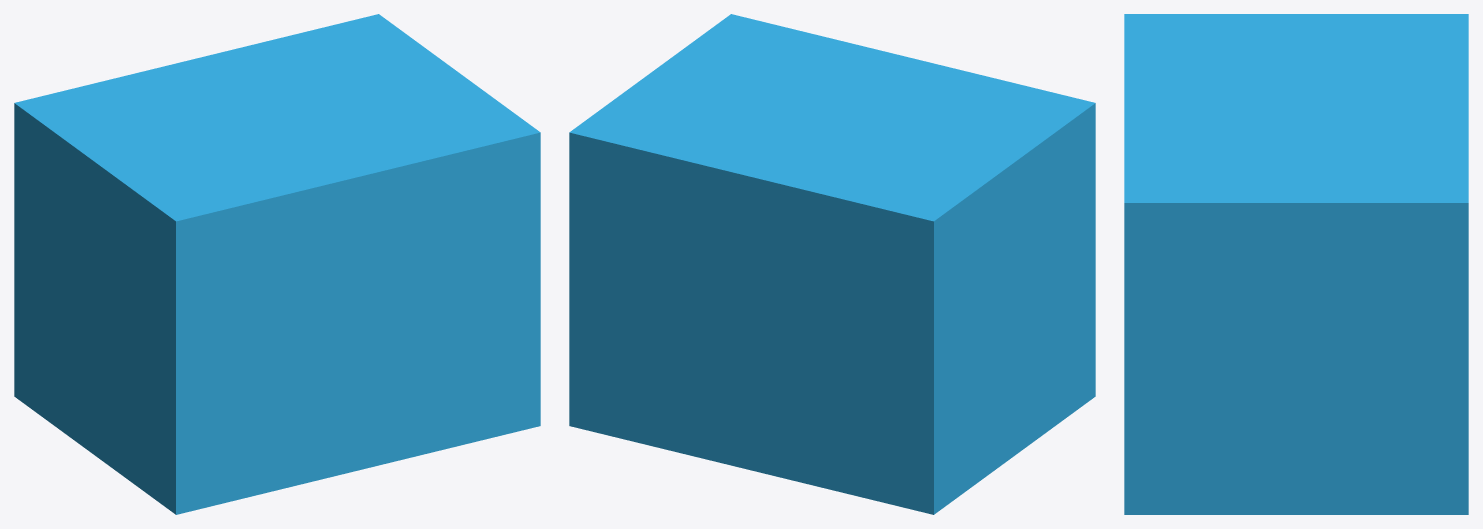
File: forward-extrude.glb
3 renders of one model, left to right at view 1: azimuth 30°, elevation 25°; view 2: azimuth 150°, elevation 25°; view 3: azimuth 270°, elevation 25°, orthographic. The views are drawn at different scales.
Visible parts, largest first — view 1: Studio_Cube; view 2: Studio_Cube; view 3: Studio_Cube.
Part boxes in pixels (x1,y1,x2,y2): Studio_Cube: (14,14,540,514); Studio_Cube: (569,14,1095,514); Studio_Cube: (1124,14,1468,514).
Size of the model in its own units: 1.3 by 1 by 1.
